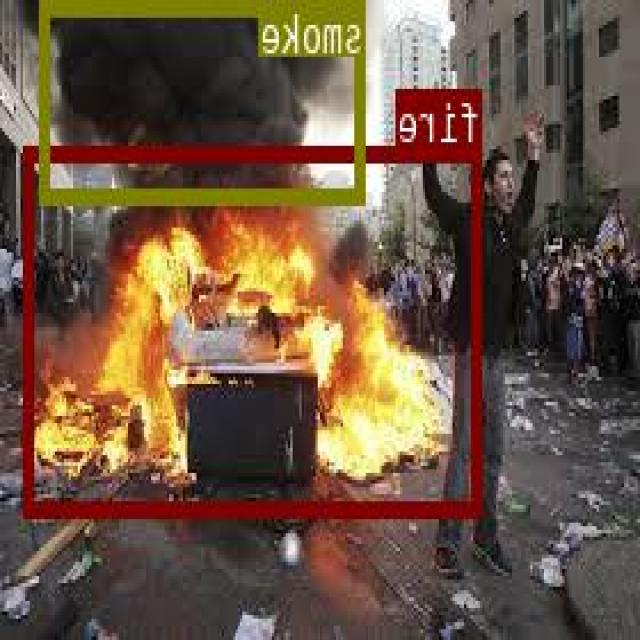fire: (27, 145, 484, 514)
smoke: (43, 0, 368, 203)
